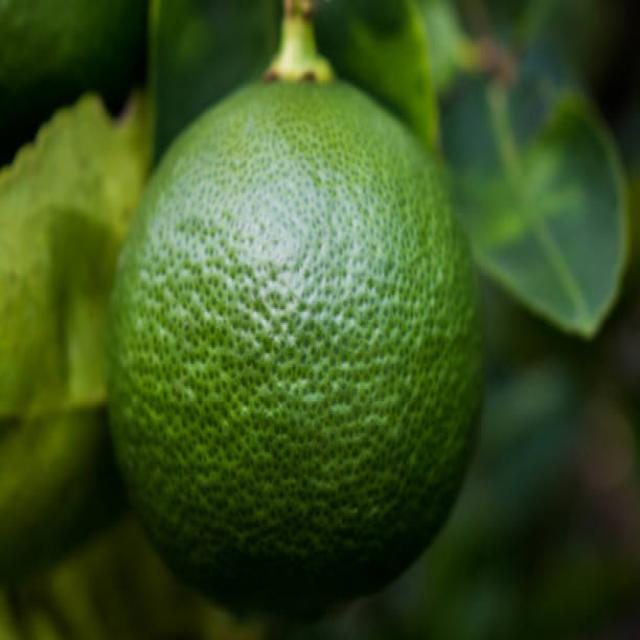Unripe: (103, 63, 481, 623)
